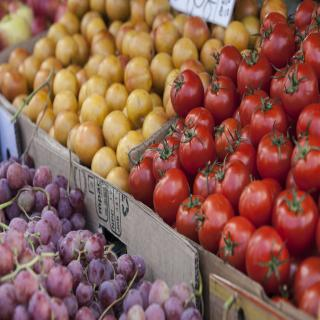Tomato: (125, 0, 320, 314), (244, 227, 294, 295)
